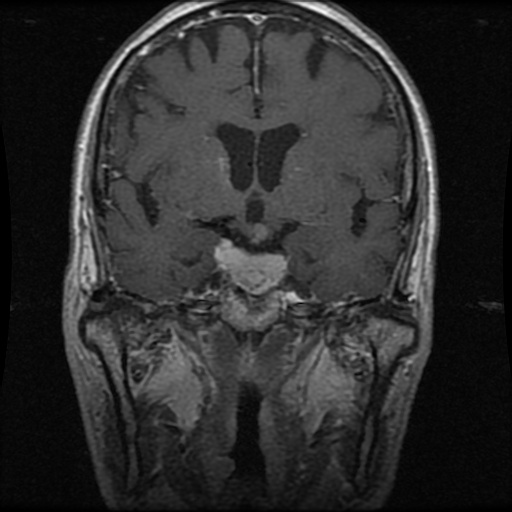pituitary: (213, 238, 288, 295)
